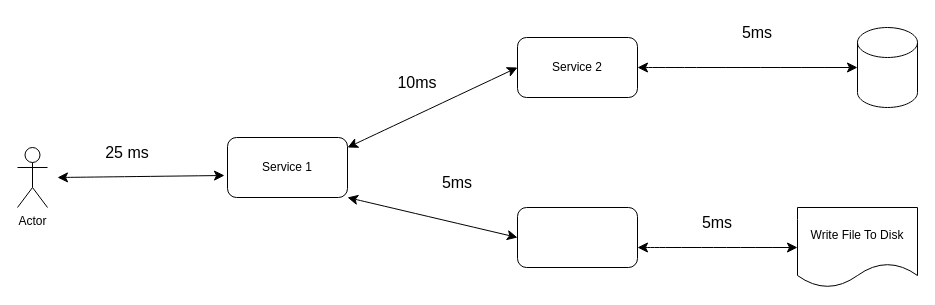
This 935x305 diagram has some shape labels left out. Each missing label, with the box of its shape:
DB: (856, 26, 918, 108)
Service 3: (516, 206, 638, 268)
